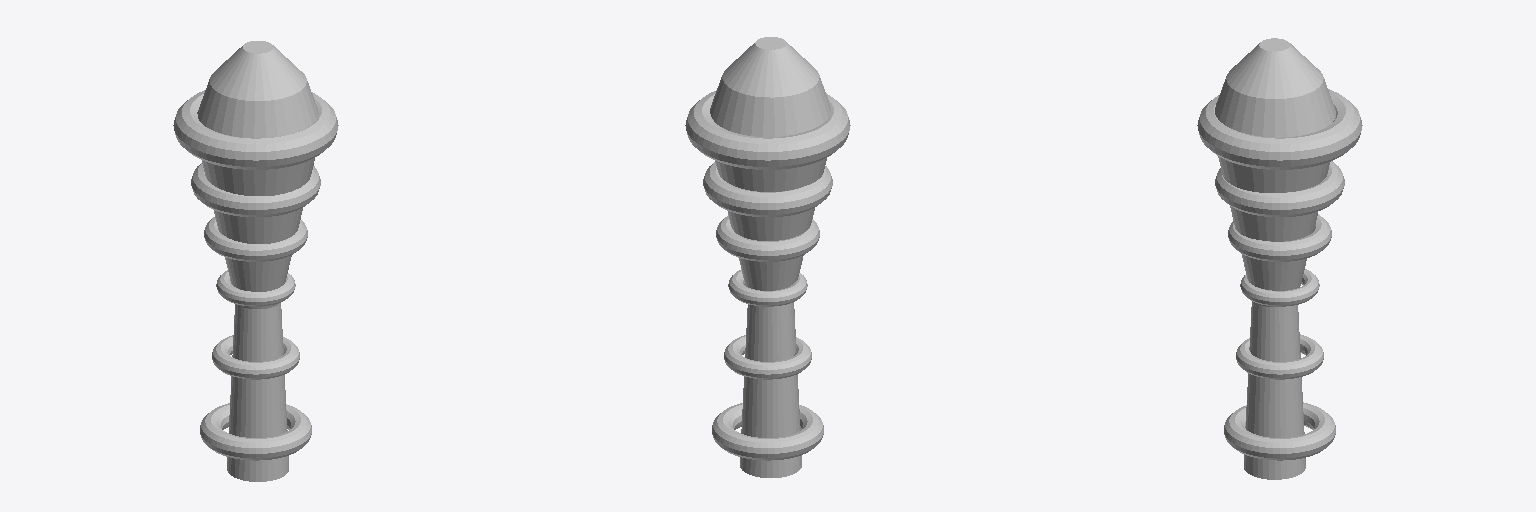
File: future_tower.obj
The picture shows the model from 3 angles: view 1: azimuth 30°, elevation 25°; view 2: azimuth 150°, elevation 25°; view 3: azimuth 270°, elevation 25°; orthographic projection.
Visible parts, largest first — view 1: Cylinder, Torus.005, Torus.002, Torus.004, Torus, Torus.001, Torus.003; view 2: Cylinder, Torus.005, Torus.004, Torus.002, Torus, Torus.001, Torus.003; view 3: Cylinder, Torus.005, Torus.002, Torus.004, Torus, Torus.001, Torus.003.
Boxes of the visible parts, <box> form: Cylinder: <box>197,41,318,481</box>; Torus.005: <box>173,90,338,169</box>; Torus.002: <box>200,403,311,460</box>; Torus.004: <box>191,163,320,216</box>; Torus: <box>204,217,307,261</box>; Torus.001: <box>212,335,299,379</box>; Torus.003: <box>216,270,295,306</box>; Cylinder: <box>710,37,830,477</box>; Torus.005: <box>685,90,850,169</box>; Torus.004: <box>703,161,832,216</box>; Torus.002: <box>712,403,823,460</box>; Torus: <box>716,215,819,261</box>; Torus.001: <box>724,335,811,379</box>; Torus.003: <box>728,269,807,306</box>; Cylinder: <box>1215,38,1335,479</box>; Torus.005: <box>1197,89,1362,169</box>; Torus.002: <box>1224,402,1335,460</box>; Torus.004: <box>1215,161,1344,216</box>; Torus: <box>1228,214,1331,261</box>; Torus.001: <box>1236,334,1323,379</box>; Torus.003: <box>1240,269,1319,306</box>.
Bounding box in the file's own units: 5.26 × 14.83 × 5.26.